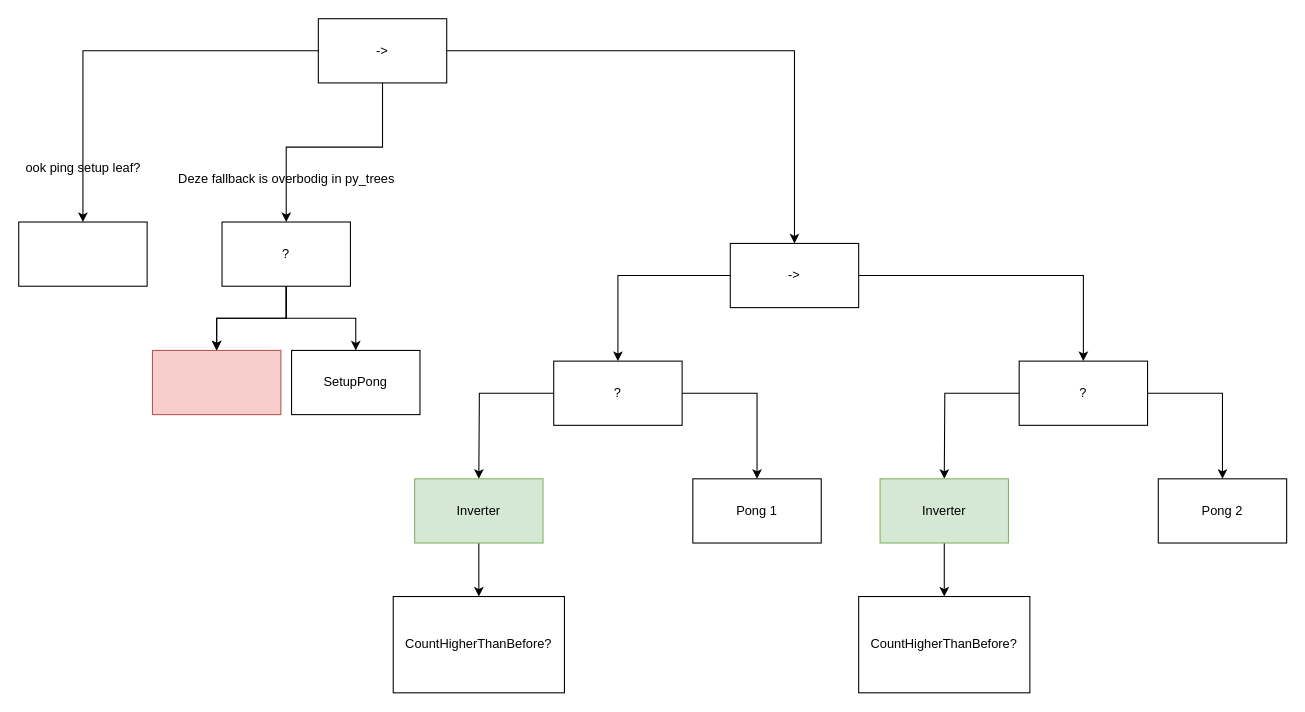
Image size: 1305x712. Some labels were removed from this diagram. Each missing label, with the box of its shape:
IsPongSetup?: (151, 349, 281, 415)
Ping: (18, 221, 147, 286)
